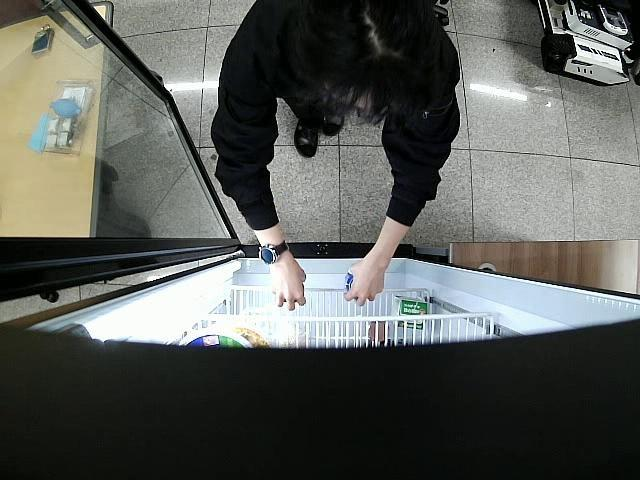13_pocariSweat: (346, 274, 354, 292)
